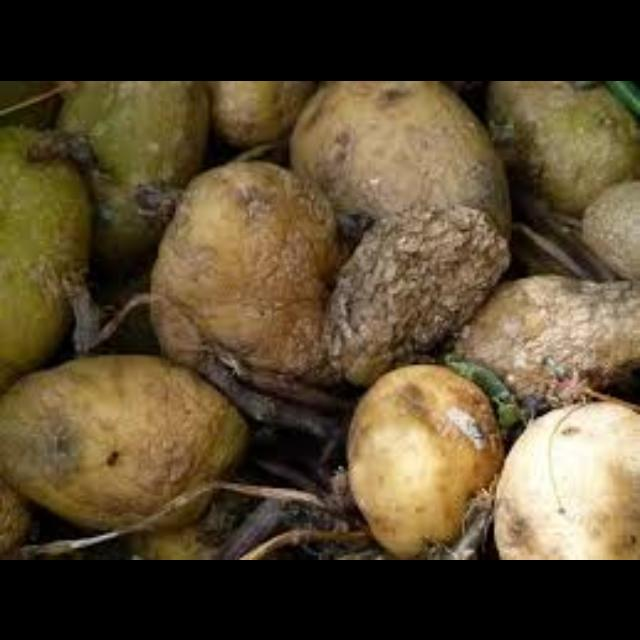Diseased-fungal potato: (148, 165, 346, 383), (0, 364, 252, 520), (296, 88, 512, 224), (338, 202, 506, 376), (361, 366, 497, 552), (468, 276, 640, 398), (510, 402, 640, 560), (2, 136, 96, 348)
